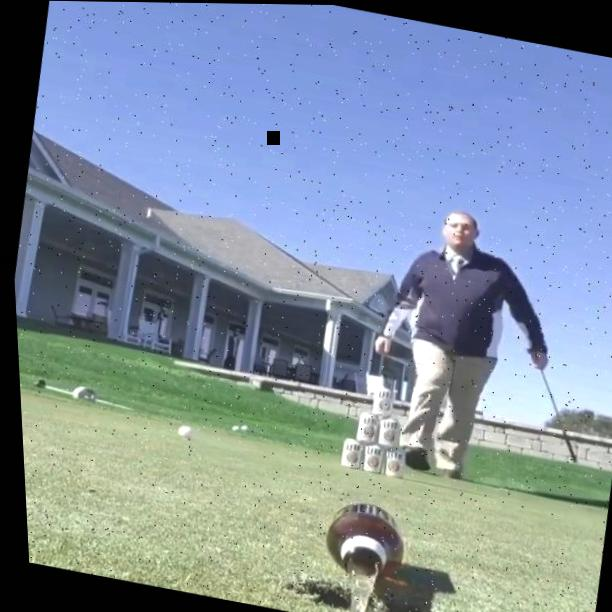GolfBall: (173, 424, 189, 438), (226, 424, 235, 431), (236, 424, 243, 430)
